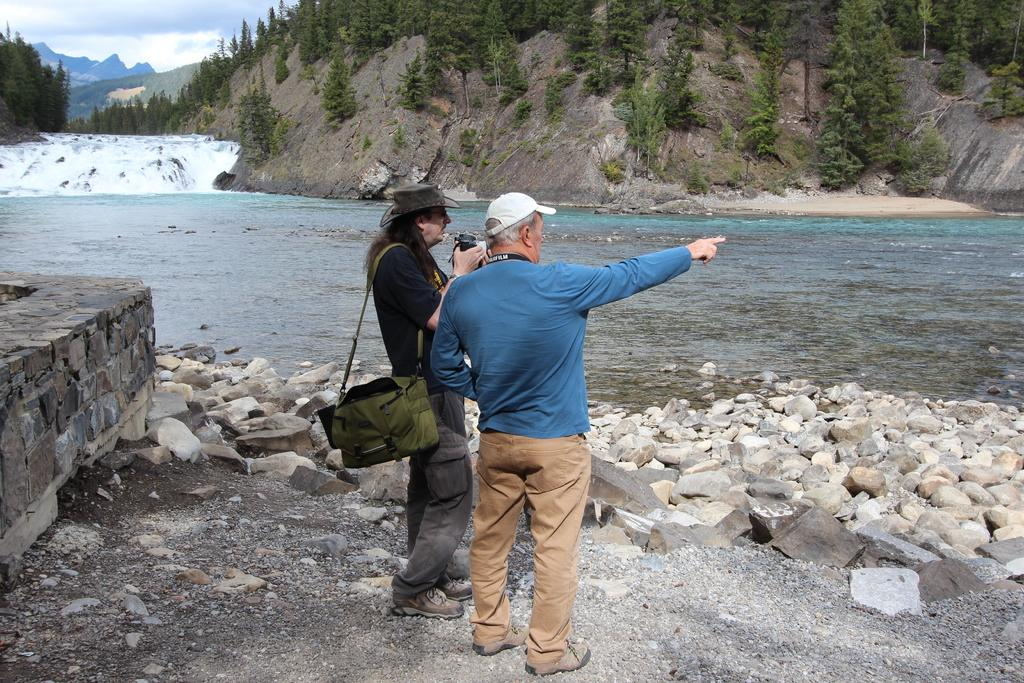Luggage-and-bags: (328, 375, 427, 480)
